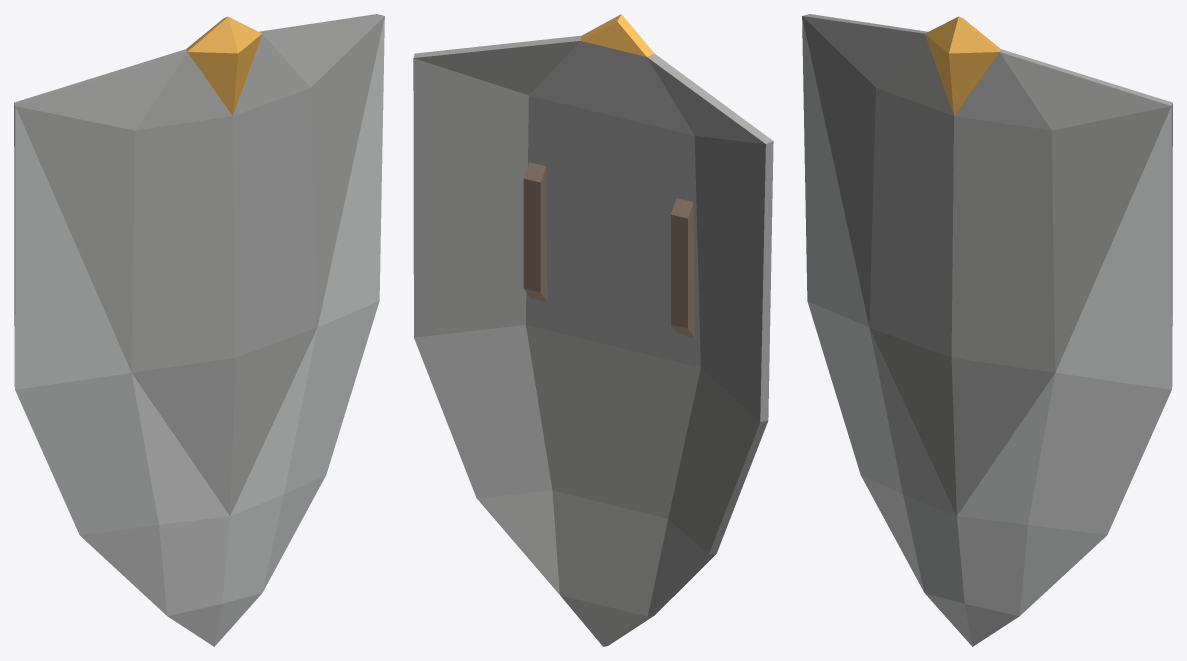
File: shield_heater.glb
3 renders of one model, left to right at view 1: azimuth 30°, elevation 25°; view 2: azimuth 150°, elevation 25°; view 3: azimuth 330°, elevation 25°, orthographic. The views are drawn at different scales.
Visible parts, largest first — view 1: hshield; view 2: hshield; view 3: hshield.
Boxes of the visible parts, box(x1,y1,x2,y2) form: hshield: box(14, 14, 384, 646); hshield: box(413, 14, 773, 646); hshield: box(802, 14, 1172, 646).
Size of the model in its own units: 0.694 by 1.15 by 0.1472.
Materials: 1 (1 with a texture image).
